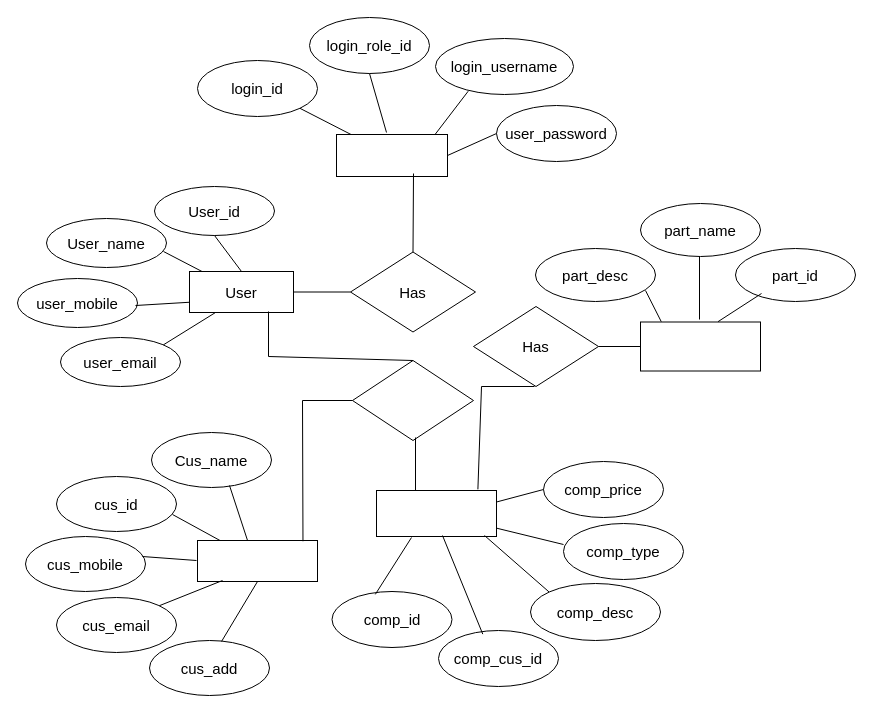
Image size: 873x713. Some labels were removed from this diagram. Here are the shapes that lost their labels. From the top down, the centre of each, then its label:
At [392,155]: "Login".
At [700,346]: "parts".
At [413,400]: "Manage".
At [436,513]: "Computer".
At [257,561]: "Customer".
